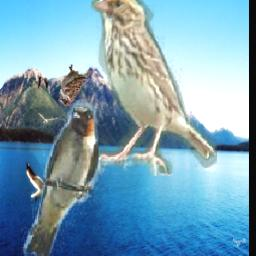Sparrow: (92, 0, 218, 177), (60, 66, 93, 107)
Swallow: (22, 101, 99, 256)
